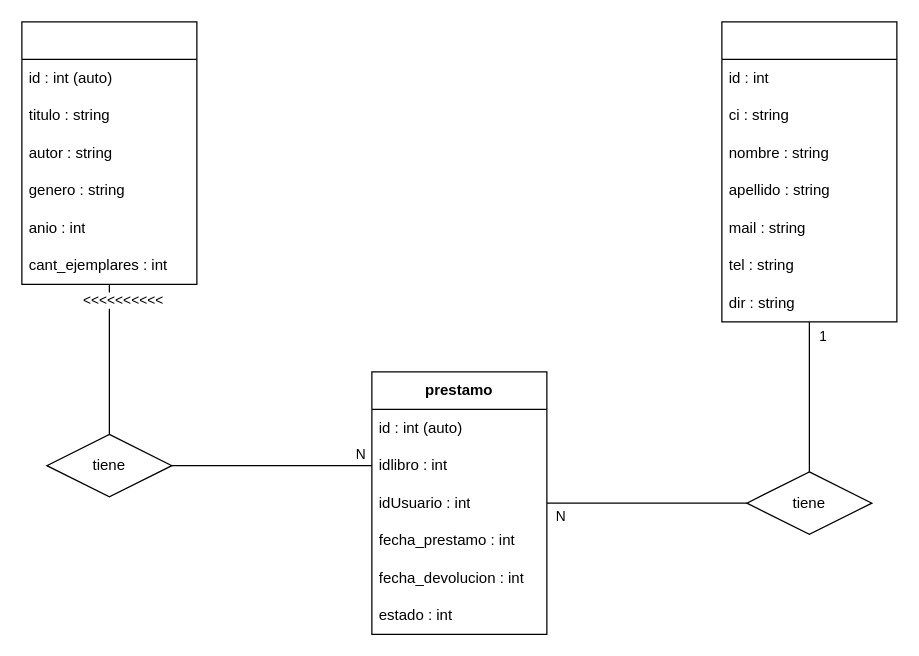
Image size: 919x656. Some labels were removed from this diagram. The shapes that lost their labels are listed below. From the top down, each one's box as (x1, y1, x2, y2) in pixels, then its label:
(21, 21, 197, 284): libro
(721, 21, 897, 322): usuario
